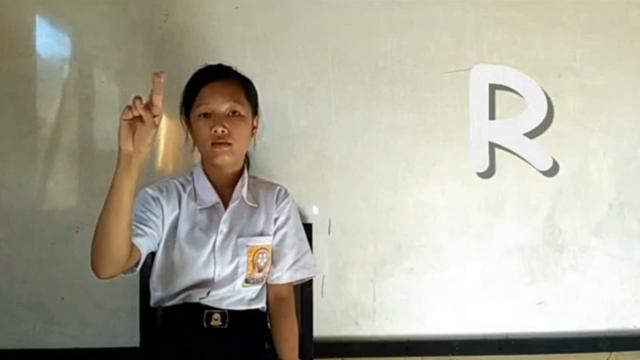R: (114, 67, 170, 163)
